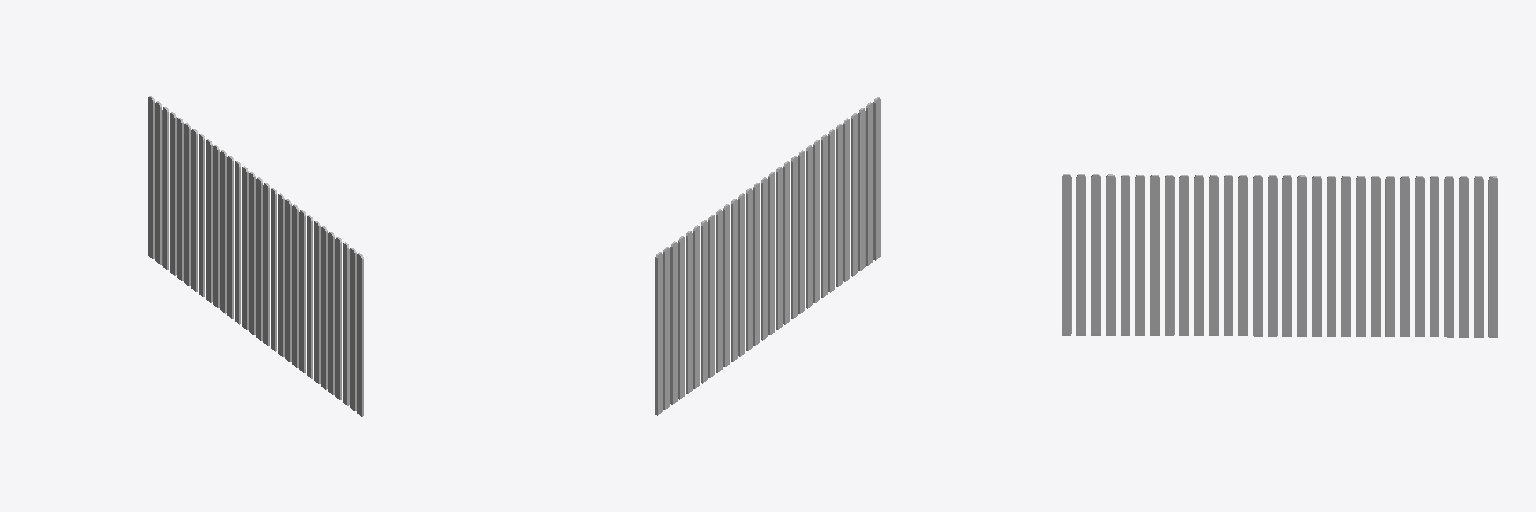
Rendered from VallaChica.obj.
3 renders of one model, left to right at view 1: azimuth 30°, elevation 25°; view 2: azimuth 150°, elevation 25°; view 3: azimuth 270°, elevation 25°, orthographic.
Visible parts, largest first — view 1: Cube.067_; view 2: Cube.067_; view 3: Cube.067_.
Part boxes in pixels (left/top/right/bottom): Cube.067_: left=148, top=96, right=363, bottom=416; Cube.067_: left=655, top=97, right=880, bottom=415; Cube.067_: left=1062, top=174, right=1497, bottom=337.
Size of the model in its own units: 0.0519 by 1.17 by 2.89.